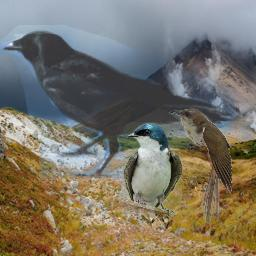Crow: (0, 25, 236, 180)
Cuckoo: (169, 108, 232, 223)
Swallow: (123, 122, 182, 214)
